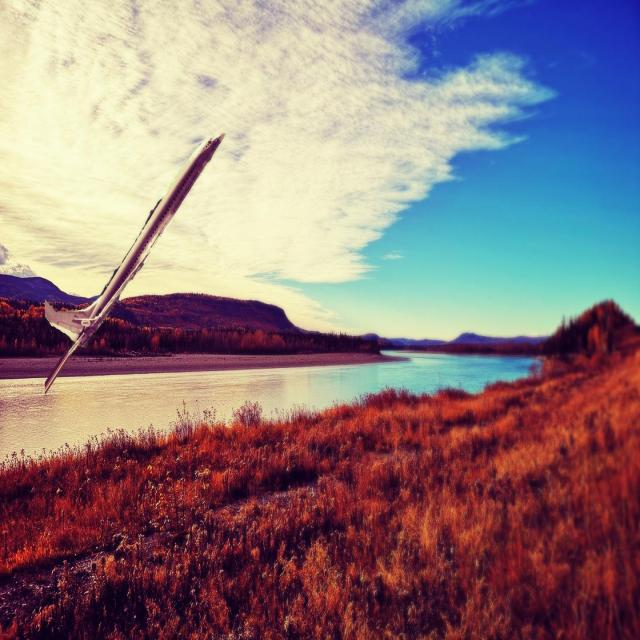airplane: (42, 131, 225, 395)
